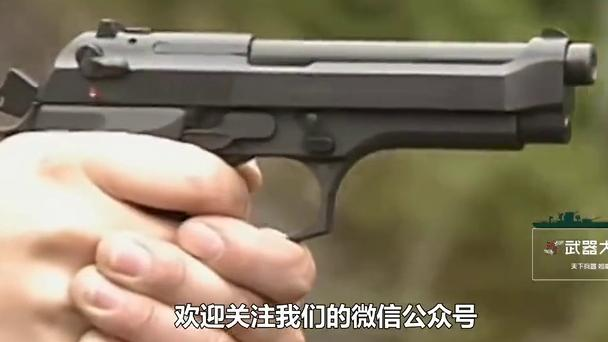gun: (1, 1, 608, 342)
